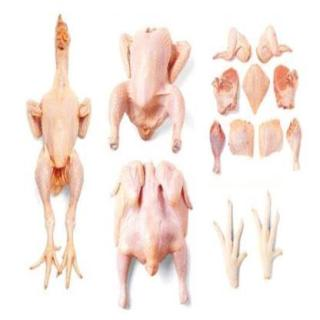Ayam: (28, 15, 92, 290), (114, 163, 193, 309), (109, 27, 192, 153), (213, 202, 247, 287), (252, 194, 284, 284), (257, 26, 294, 65), (244, 65, 270, 116), (213, 68, 240, 116), (214, 29, 253, 62), (275, 66, 300, 112), (229, 120, 255, 160), (258, 120, 282, 160), (287, 120, 304, 172), (211, 123, 227, 178)
